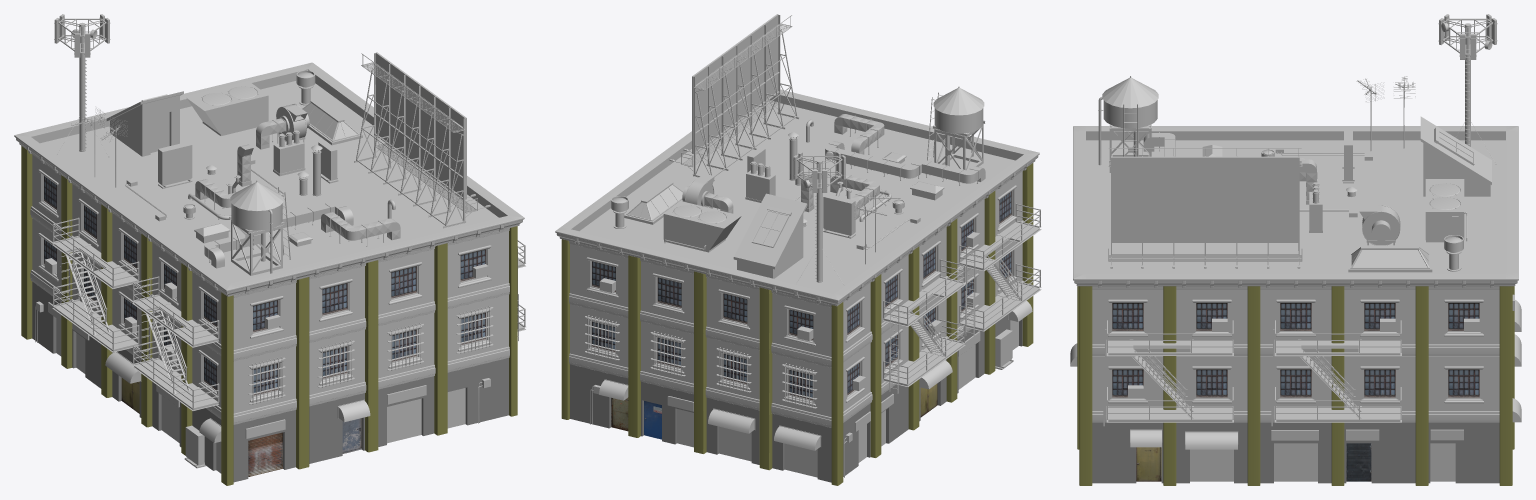
File: Building 8.fbx
3 views of the same model, side by side, from view 1: azimuth 30°, elevation 25°; view 2: azimuth 150°, elevation 25°; view 3: azimuth 270°, elevation 25° (orthographic). The views are drawn at different scales.
Visible parts, largest first — view 1: Billboard_3, Fire_Stairs_Top (×2), Fire_Stairs_Bottom (×2), Water_Tower_2, Roof_Access_1, AC_Roof_Unit_1, Building_Wall_with_Door_A1, Building_Wall_with_Window_D43, Building_Wall_with_Window_D39, Building_Roof1, Building_Wall_with_Window_D, Building_Wall_with_Window_D5 (+112 smaller); view 2: Billboard_3, Fire_Stairs_Top (×2), Fire_Stairs_Bottom (×2), Roof_Access_1, Water_Tower_2, AC_Roof_Unit_1, Building_Wall_with_Window_D27, Building_Wall_with_Door_B5, Building_Wall_with_Window_D32, Antenna_5, Building_Wall_with_Window_D16, Building_Wall_with_Window_D11 (+112 smaller); view 3: Billboard_3, Fire_Stairs_Top (×2), Fire_Stairs_Bottom (×2), Water_Tower_2, Roof_Access_1, Building_Wall_with_Door_A2, Building_Wall_with_Door_A3, Building_Wall_with_Door_B1, Building_Wall_with_Window_D34, Building_Wall_with_Window_D10, Building_Roof18, Building_Wall_with_Window_D33 (+81 smaller).
Boxes of the visible parts, x1,y1,x2,y2 form: Billboard_3: (354,52,490,228); Fire_Stairs_Top (×2): (52,217,219,393); Fire_Stairs_Bottom (×2): (52,219,219,410); Water_Tower_2: (229,180,290,275); Roof_Access_1: (106,91,183,156); AC_Roof_Unit_1: (186,82,268,135); Building_Wall_with_Door_A1: (447,358,508,425); Building_Wall_with_Window_D43: (233,283,295,349); Building_Wall_with_Window_D39: (447,231,508,297); Building_Roof1: (40,128,139,172); Building_Wall_with_Window_D: (233,346,295,413); Building_Wall_with_Window_D5: (447,294,508,361); Billboard_3: (669,14,798,180); Fire_Stairs_Top (×2): (883,203,1041,356); Fire_Stairs_Bottom (×2): (883,248,1041,393); Roof_Access_1: (733,193,807,278); Water_Tower_2: (927,86,985,170); AC_Roof_Unit_1: (663,201,741,252); Building_Wall_with_Window_D27: (772,293,831,356); Building_Wall_with_Door_B5: (570,364,628,428); Building_Wall_with_Window_D32: (570,244,628,307); Antenna_5: (793,151,845,285); Building_Wall_with_Window_D16: (772,353,831,417); Building_Wall_with_Window_D11: (570,304,628,367); Billboard_3: (1108,148,1302,268); Fire_Stairs_Top (×2): (1106,320,1401,418); Fire_Stairs_Bottom (×2): (1103,325,1401,426); Water_Tower_2: (1098,76,1158,172); Roof_Access_1: (1420,116,1491,196); Building_Wall_with_Door_A2: (1344,422,1415,483); Building_Wall_with_Door_A3: (1428,422,1499,483); Building_Wall_with_Door_B1: (1092,422,1163,483); Building_Wall_with_Window_D34: (1428,289,1499,344); Building_Wall_with_Window_D10: (1428,356,1499,410); Building_Roof18: (1338,176,1421,211); Building_Wall_with_Window_D33: (1176,289,1247,344).
Size of the model in its own units: 1928 by 1757 by 2148.
